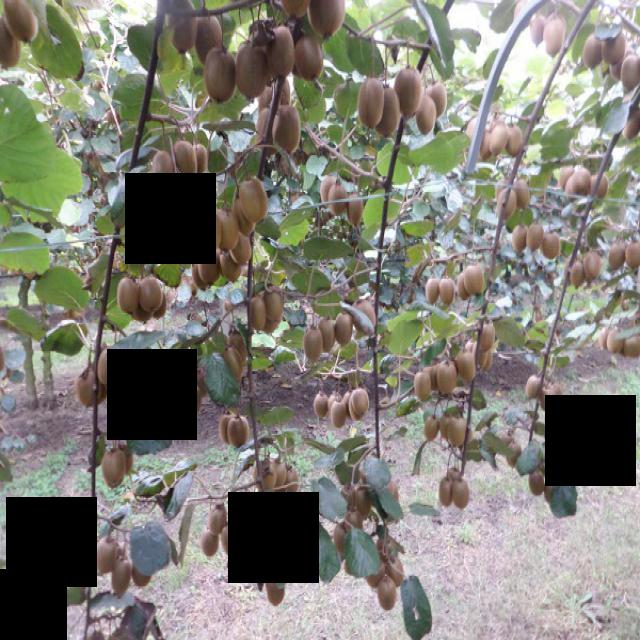kiwi: (207, 47, 238, 104), (238, 42, 268, 99), (169, 1, 201, 54), (260, 72, 291, 123), (5, 1, 40, 42), (196, 15, 225, 64), (309, 1, 348, 37), (242, 175, 270, 225), (273, 106, 303, 152), (396, 66, 424, 115), (297, 32, 325, 81), (196, 206, 224, 255), (269, 25, 294, 79), (376, 84, 401, 137), (360, 79, 386, 126), (78, 365, 107, 406), (2, 17, 24, 71), (216, 206, 241, 253), (236, 185, 259, 236), (181, 212, 204, 262), (200, 242, 225, 287), (153, 151, 176, 196), (141, 272, 166, 313), (354, 297, 380, 336), (95, 536, 121, 575), (177, 138, 199, 183), (103, 448, 127, 488), (133, 546, 155, 589), (232, 226, 255, 267), (237, 502, 263, 538), (257, 108, 279, 149), (223, 242, 245, 282), (112, 556, 134, 596), (223, 346, 246, 384), (99, 347, 120, 388), (120, 275, 141, 314), (134, 286, 156, 323), (584, 34, 606, 70), (604, 31, 628, 64), (546, 20, 567, 57), (255, 459, 278, 491), (229, 414, 251, 447), (223, 520, 243, 556), (418, 98, 437, 135), (194, 254, 213, 291), (335, 520, 354, 557), (329, 183, 350, 216), (459, 348, 478, 384), (380, 576, 399, 612), (429, 82, 449, 116), (306, 327, 324, 363), (251, 295, 269, 331), (267, 287, 285, 323), (221, 411, 240, 445), (270, 456, 289, 490), (281, 1, 314, 20), (440, 361, 458, 395), (337, 308, 354, 344), (320, 317, 337, 353), (185, 382, 203, 416), (491, 125, 510, 157), (466, 264, 485, 296), (203, 524, 222, 556), (210, 503, 229, 535), (501, 187, 519, 220), (230, 328, 248, 361), (390, 556, 408, 589), (623, 55, 640, 89), (322, 173, 339, 207), (369, 553, 386, 587), (450, 416, 468, 448), (379, 535, 398, 565), (195, 143, 210, 180), (507, 125, 524, 157), (358, 486, 375, 518), (283, 465, 301, 495), (118, 445, 137, 473), (574, 167, 592, 196), (153, 290, 169, 322), (350, 193, 365, 226), (382, 482, 400, 509), (625, 108, 640, 140), (481, 323, 497, 353), (417, 369, 432, 401), (456, 479, 472, 509), (343, 483, 359, 513), (192, 367, 209, 395), (347, 509, 364, 537), (515, 180, 531, 209), (586, 253, 603, 280), (459, 271, 474, 300), (529, 223, 545, 250), (545, 232, 561, 259), (441, 279, 457, 306), (441, 412, 457, 439), (354, 388, 370, 415), (441, 475, 455, 505), (427, 277, 442, 304), (509, 442, 524, 469), (528, 374, 544, 399), (530, 469, 546, 494), (352, 394, 366, 422), (610, 246, 627, 269), (346, 388, 358, 420), (532, 18, 546, 45), (515, 225, 529, 252), (333, 399, 347, 426), (542, 387, 557, 412), (609, 330, 625, 353), (427, 415, 441, 441), (573, 262, 588, 286), (504, 432, 517, 459), (547, 478, 560, 505), (330, 392, 345, 415), (596, 173, 610, 197), (562, 166, 576, 190), (628, 242, 640, 269), (448, 468, 462, 491), (316, 392, 329, 416), (552, 383, 565, 405)
